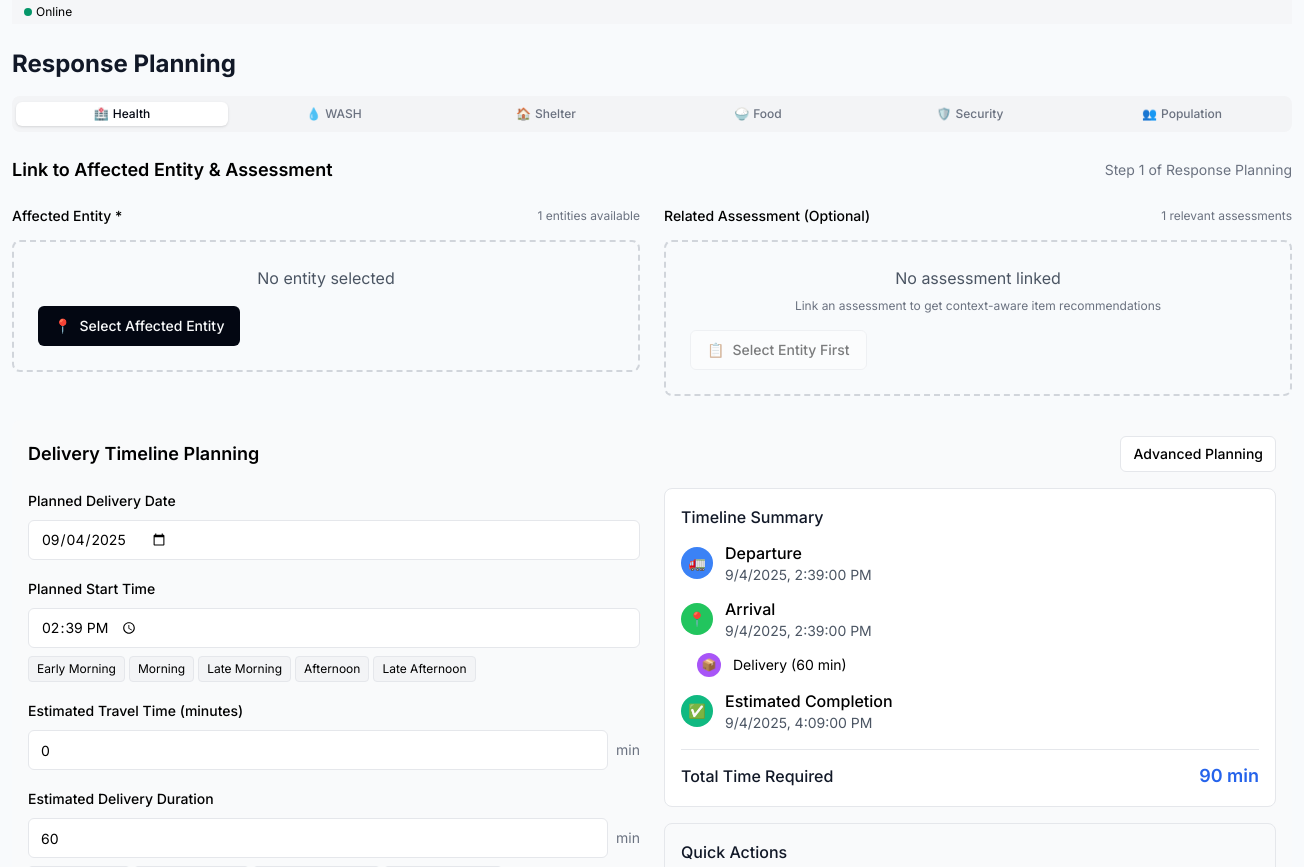
Test: ResponsePlanningForm › renders response type specific fields correctly
Note: Switch to WASH and check WASH-specific fields
Click the tab "💧 WASH": (334, 114) [228,102,440,126]
(page scrolled)
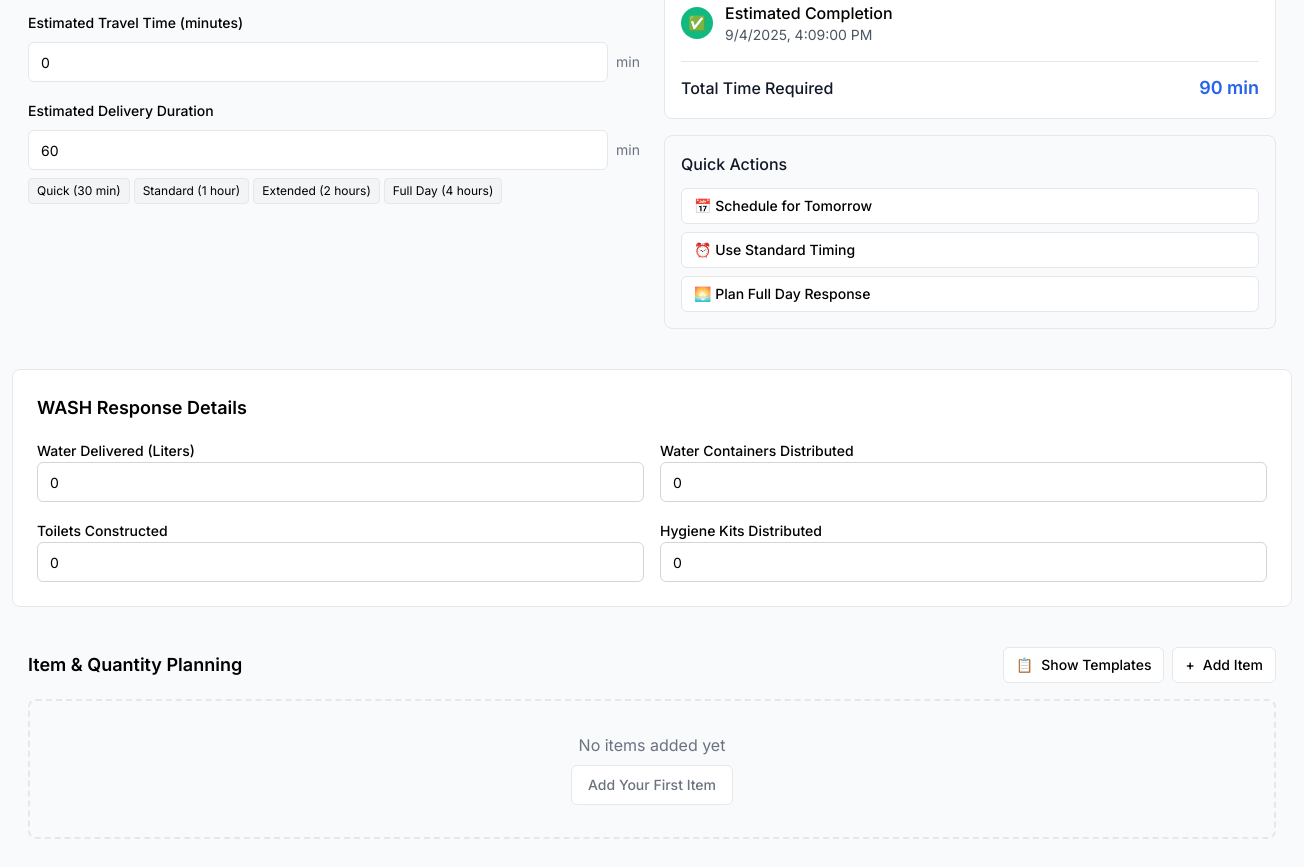
Check: the text "Water Delivered (Liters)" is shown, box [37,442,195,459]
Check: the text "Water Containers Distributed" is shown, box [660,442,854,459]
